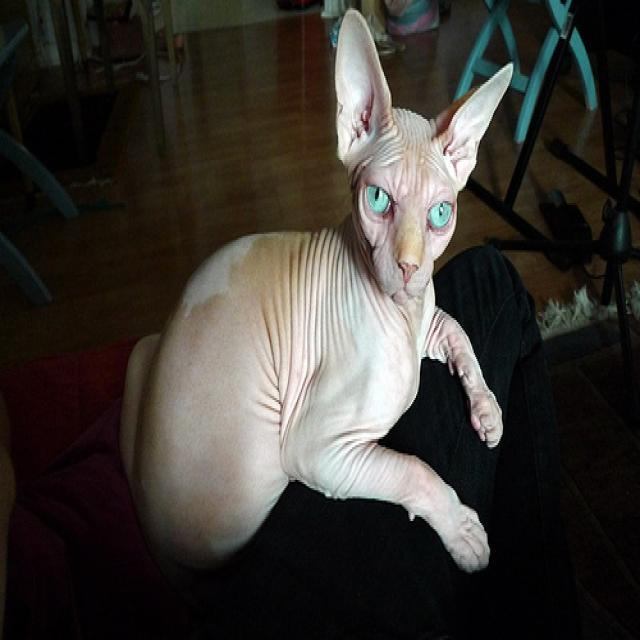Sphynx: (334, 4, 511, 302)
